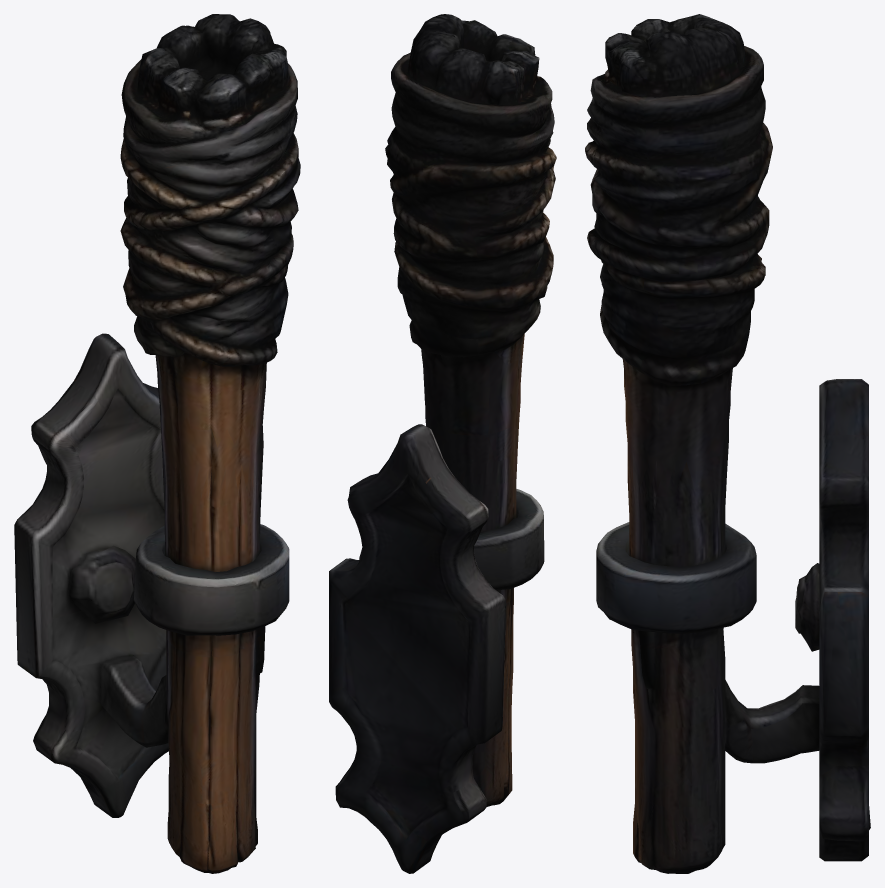
File: prop_torch.glb
The picture shows the model from 3 angles, left to right: view 1: azimuth 30°, elevation 25°; view 2: azimuth 150°, elevation 25°; view 3: azimuth 270°, elevation 25°; orthographic projection. The views are drawn at different scales.
Visible parts, largest first — view 1: tripo_node_c7065f92-3bb2-4130-ac32-48d29d2620be; view 2: tripo_node_c7065f92-3bb2-4130-ac32-48d29d2620be; view 3: tripo_node_c7065f92-3bb2-4130-ac32-48d29d2620be.
Boxes of the visible parts, left/top/right/bottom form: tripo_node_c7065f92-3bb2-4130-ac32-48d29d2620be: left=14, top=14, right=300, bottom=873; tripo_node_c7065f92-3bb2-4130-ac32-48d29d2620be: left=329, top=14, right=556, bottom=873; tripo_node_c7065f92-3bb2-4130-ac32-48d29d2620be: left=585, top=14, right=870, bottom=873.
Size of the model in its own units: 0.2368 by 1 by 0.3033.
1 material, 1 textured.
